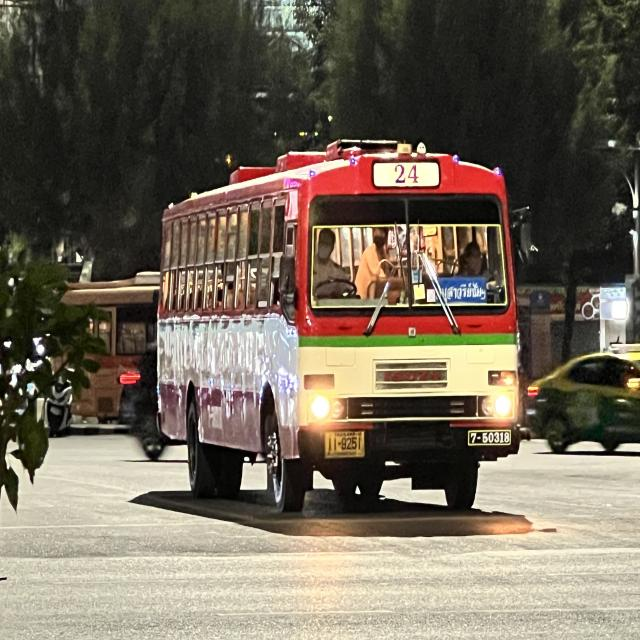BMTA-bus: (155, 140, 526, 514)
Bus Line Number: (390, 163, 423, 188)
Bus Side Number: (469, 430, 512, 446)
Destination Sign: (431, 276, 490, 305)
